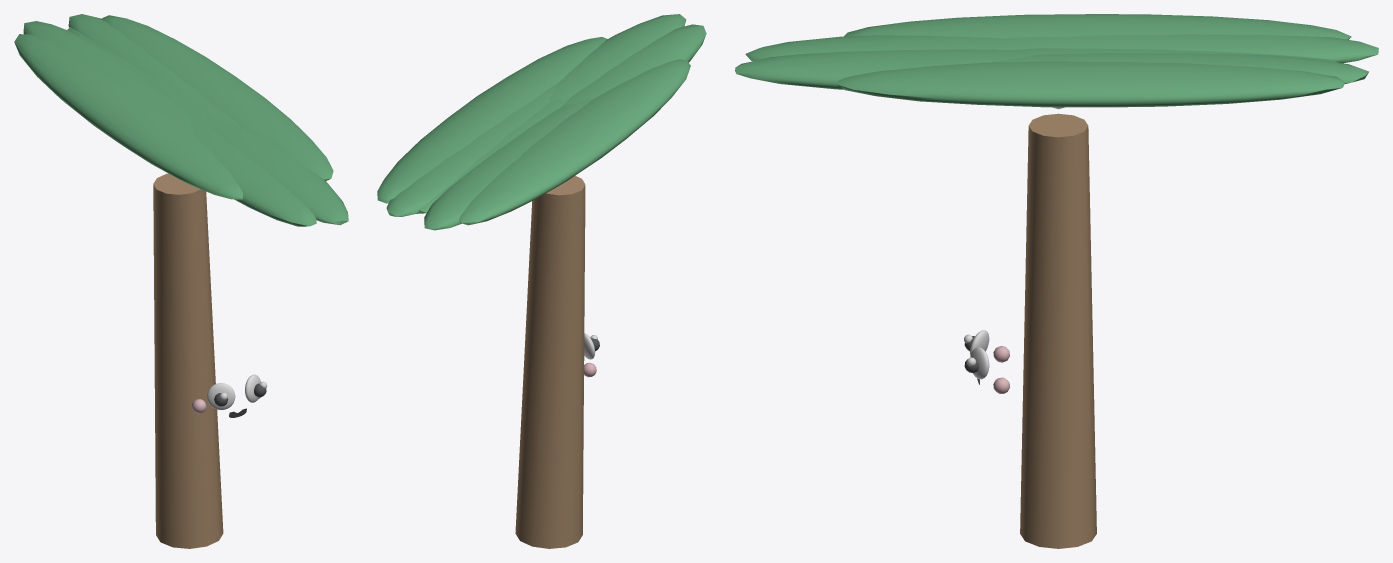
Rendered from roystonea-borinquena.glb.
3 renders of one model, left to right at view 1: azimuth 30°, elevation 25°; view 2: azimuth 150°, elevation 25°; view 3: azimuth 270°, elevation 25°, orthographic. The views are drawn at different scales.
Parts seen in each view (by area): view 1: trunk, frond3, frond0, frond1, frond2, frond4, frond6, frond5, pface-eye-r; view 2: trunk, frond3, frond0, frond4, frond6, frond1, frond2, frond5; view 3: trunk, frond0, frond3, frond1, frond4, frond6, frond2, frond5.
Part boxes in pixels (x1,y1,x2,y2): trunk: [153, 173, 223, 548]; frond3: [14, 34, 243, 199]; frond0: [101, 15, 333, 180]; frond1: [204, 114, 348, 225]; frond2: [190, 116, 316, 226]; frond4: [23, 21, 193, 131]; frond6: [68, 14, 241, 127]; frond5: [67, 27, 207, 124]; pface-eye-r: [207, 383, 235, 410]; trunk: [515, 175, 585, 548]; frond3: [459, 59, 690, 225]; frond0: [377, 37, 607, 203]; frond4: [424, 99, 593, 230]; frond6: [386, 83, 557, 216]; frond1: [549, 14, 686, 101]; frond2: [560, 24, 706, 107]; frond5: [416, 98, 569, 213]; trunk: [1020, 113, 1096, 548]; frond0: [836, 61, 1345, 107]; frond3: [844, 14, 1351, 39]; frond1: [735, 49, 1037, 89]; frond4: [1006, 34, 1378, 63]; frond6: [989, 53, 1368, 83]; frond2: [745, 35, 1044, 61]; frond5: [1017, 48, 1337, 62].
Size of the model in its own units: 0.2341 by 0.63 by 0.7533.
